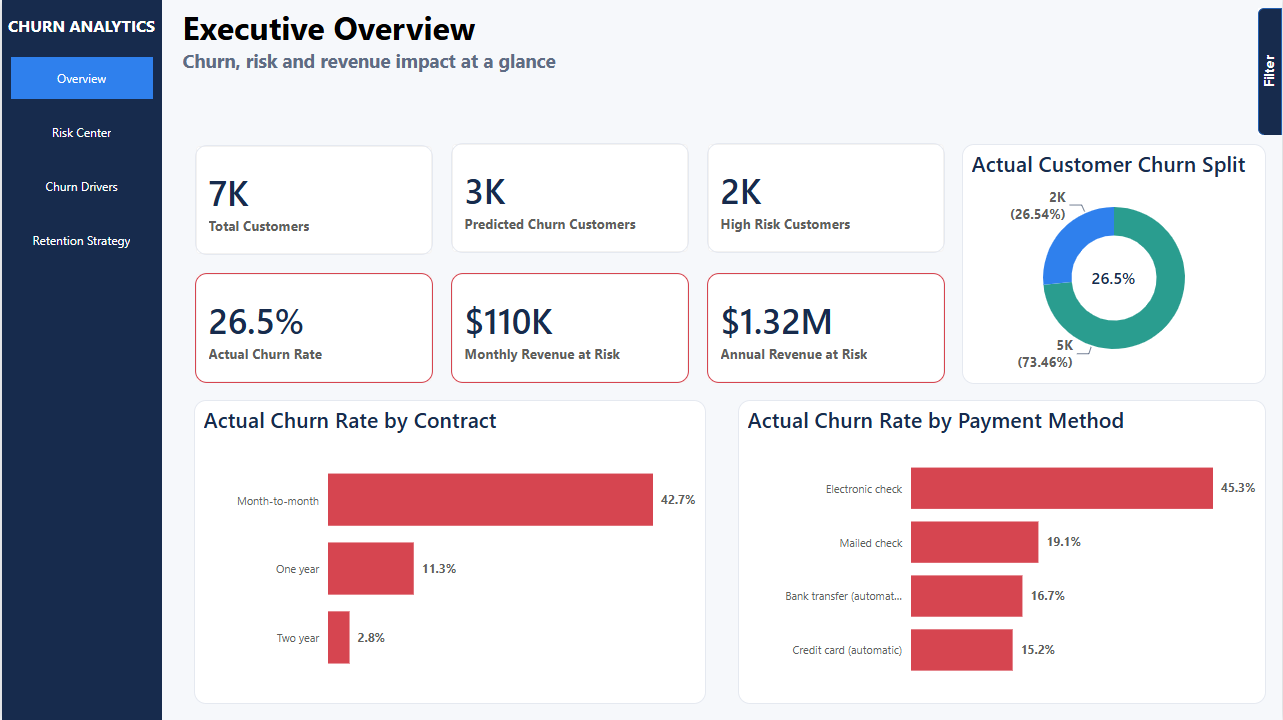

Layout of this report page (visuals, bound fields, positions):
{"tool":"powerbi","page":{"name":"Overview","canvas":[1280,720],"ordinal":0},"visuals":[{"type":"cardVisual","fields":{"Data":["_Measures.Total Customers"]},"box":[176,128,272,144],"z":0,"group":"g2"},{"type":"group","id":"g1","title":"Donut Chart","box":[960,144,304,240],"z":0},{"type":"donutChart","title":"Actual Customer Churn Split","fields":{"Y":["_Measures.Total Customers"],"Category":["churn_predictions_powerbi.Actual_Churn"]},"box":[960,144,304,240],"z":0,"group":"g1"},{"type":"group","id":"g2","title":"KPI Cards","box":[176,125.6,784,274.4],"z":1000},{"type":"cardVisual","title":"Actual Churn Text","fields":{"Data":["_Measures.Actual Churn Rate"]},"box":[1056,248,112,56],"z":1000,"group":"g1"},{"type":"cardVisual","fields":{"Data":["_Measures.Actual Churn Rate"]},"box":[176,256,272,144],"z":1000,"group":"g2"},{"type":"shape","box":[0,0,160,720],"z":2000},{"type":"cardVisual","fields":{"Data":["_Measures.Predicted Churn Customers"]},"box":[431.8,125.6,272,144],"z":2000,"group":"g2"},{"type":"textbox","box":[0,10,160,38.9],"z":3000},{"type":"cardVisual","fields":{"Data":["_Measures.High Risk Customers"]},"box":[687.8,125.6,272,144],"z":3000,"group":"g2"},{"type":"textbox","box":[176,0,400,80],"z":4000},{"type":"cardVisual","fields":{"Data":["_Measures.Monthly Revenue at Risk"]},"box":[432,256,272,144],"z":4000,"group":"g2"},{"type":"cardVisual","fields":{"Data":["_Measures.Annual Revenue at Risk"]},"box":[688,256,272,144],"z":5000,"group":"g2"},{"type":"clusteredBarChart","title":"Actual Churn Rate by Contract","fields":{"Category":["churn_predictions_powerbi.Contract"],"Y":["_Measures.Actual Churn Rate"]},"box":[192,400,512,304],"z":5000},{"type":"clusteredBarChart","title":"Actual Churn Rate by Payment Method","fields":{"Category":["churn_predictions_powerbi.PaymentMethod"],"Y":["_Measures.Actual Churn Rate"]},"box":[736,400,528,304],"z":6000},{"type":"group","id":"g3","title":"Group 2","box":[896,8,384,208],"z":7000},{"type":"pageNavigator","box":[8,56,144,208],"z":8000},{"type":"shape","title":"Filter button","box":[1256,8,24,126.6],"z":9750,"group":"g3"}]}

Visuals, with their boxes on the page's 1280x720 design canvas (x1, y1, x2, y2). These are canvas units, not pixel positions in the 1283x720 screenshot, which may show the page scaled, cropped or inside an application window:
cardVisual - _Measures.Total Customers: Rect(176, 128, 448, 272)
"Donut Chart" group: Rect(960, 144, 1264, 384)
"Actual Customer Churn Split" donutChart: Rect(960, 144, 1264, 384)
"KPI Cards" group: Rect(176, 126, 960, 400)
"Actual Churn Text" cardVisual: Rect(1056, 248, 1168, 304)
cardVisual - _Measures.Actual Churn Rate: Rect(176, 256, 448, 400)
shape: Rect(0, 0, 160, 720)
cardVisual - _Measures.Predicted Churn Customers: Rect(432, 126, 704, 270)
textbox: Rect(0, 10, 160, 49)
cardVisual - _Measures.High Risk Customers: Rect(688, 126, 960, 270)
textbox: Rect(176, 0, 576, 80)
cardVisual - _Measures.Monthly Revenue at Risk: Rect(432, 256, 704, 400)
cardVisual - _Measures.Annual Revenue at Risk: Rect(688, 256, 960, 400)
"Actual Churn Rate by Contract" clusteredBarChart: Rect(192, 400, 704, 704)
"Actual Churn Rate by Payment Method" clusteredBarChart: Rect(736, 400, 1264, 704)
"Group 2" group: Rect(896, 8, 1280, 216)
pageNavigator: Rect(8, 56, 152, 264)
"Filter button" shape: Rect(1256, 8, 1280, 135)
